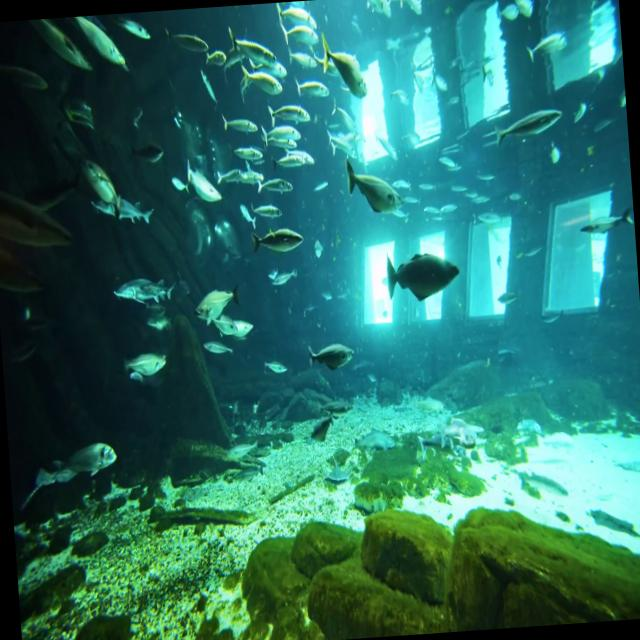fish: (386, 249, 462, 303), (91, 172, 156, 233), (319, 33, 366, 103), (342, 158, 402, 212), (490, 107, 562, 147), (113, 271, 180, 307), (79, 16, 125, 67), (120, 338, 170, 383), (250, 221, 306, 260), (196, 279, 242, 323), (575, 209, 631, 238), (263, 96, 312, 128), (185, 160, 222, 198), (238, 61, 280, 94), (306, 342, 353, 370)
